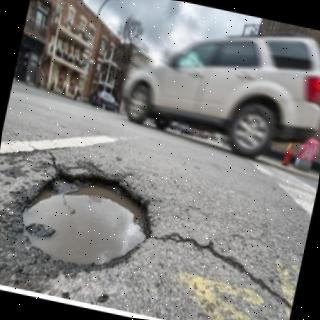pothole: (22, 171, 151, 268)
